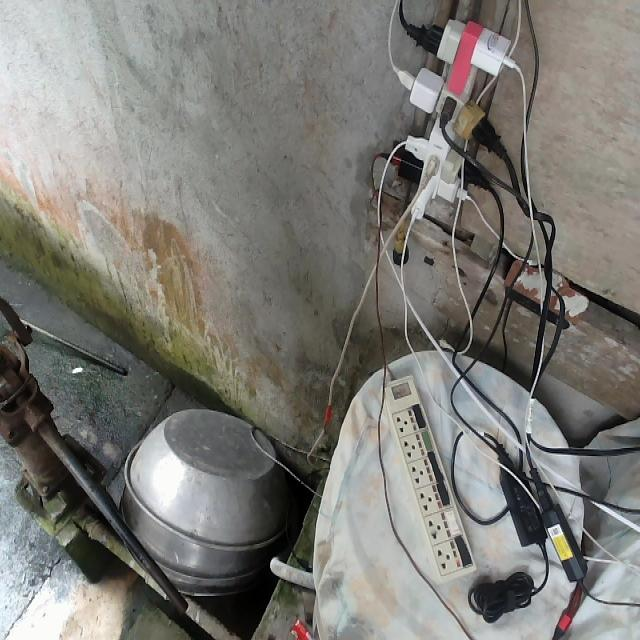-: (377, 16, 524, 224)
